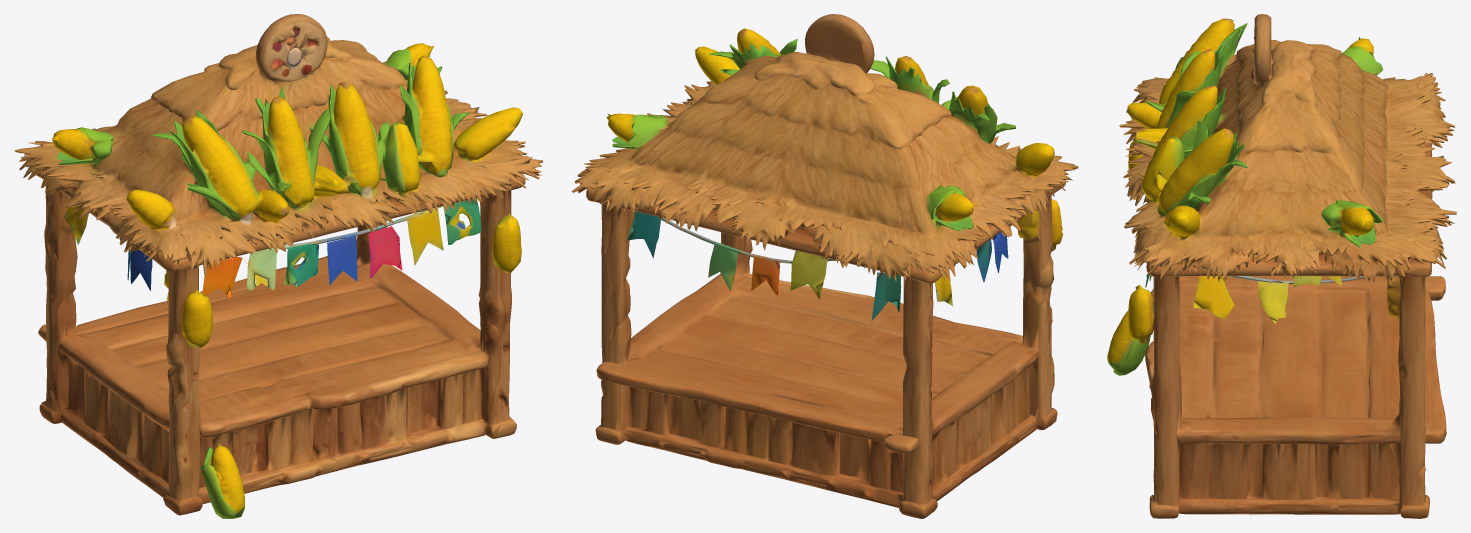
The model's file is festa_barraca.glb.
3 renders of one model, left to right at view 1: azimuth 30°, elevation 25°; view 2: azimuth 150°, elevation 25°; view 3: azimuth 270°, elevation 25°, orthographic. The views are drawn at different scales.
Parts seen in each view (by area): view 1: tripo_node_09ac91c1-0180-496b-a5bd-6eeaf403f4a0; view 2: tripo_node_09ac91c1-0180-496b-a5bd-6eeaf403f4a0; view 3: tripo_node_09ac91c1-0180-496b-a5bd-6eeaf403f4a0.
Part boxes in pixels (box(x1,y1,x2,y2)): tripo_node_09ac91c1-0180-496b-a5bd-6eeaf403f4a0: box(14, 14, 542, 518); tripo_node_09ac91c1-0180-496b-a5bd-6eeaf403f4a0: box(572, 14, 1078, 518); tripo_node_09ac91c1-0180-496b-a5bd-6eeaf403f4a0: box(1107, 14, 1456, 518).
Bounding box in the file's own units: 0.9803 × 0.97 × 0.7327.
Materials: 1 (1 with a texture image).
